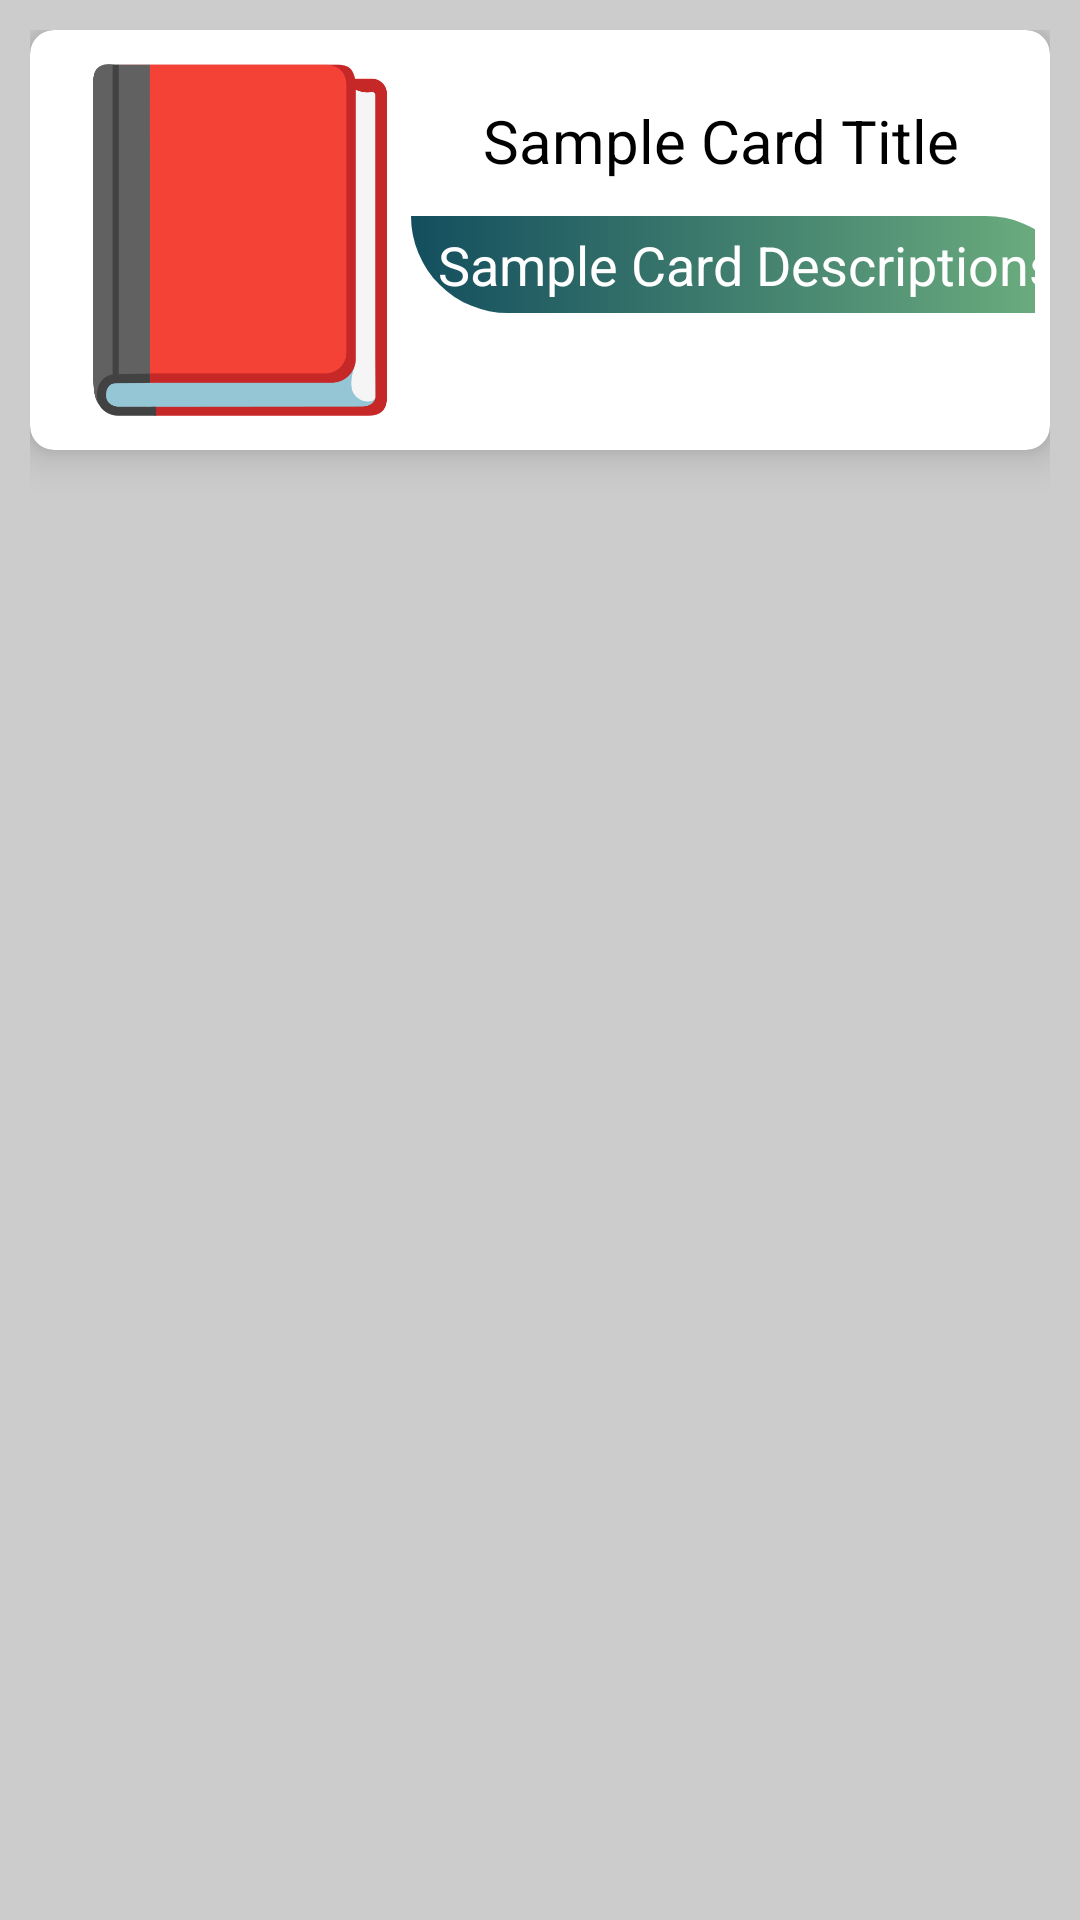

Named icons in this screenshot (1080x1920) and their bounding boxes, [left=x1, top=y1, right=x2, bottom=y2]:
book: [left=93, top=64, right=387, bottom=416]
